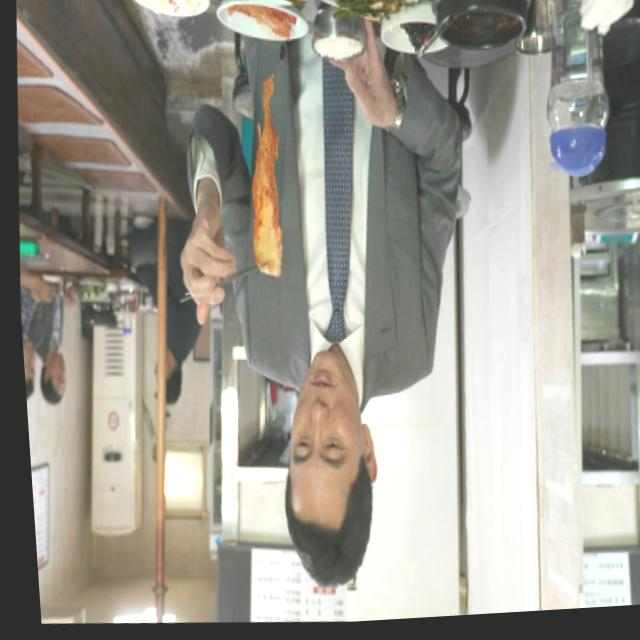eating-person: (137, 0, 501, 634)
